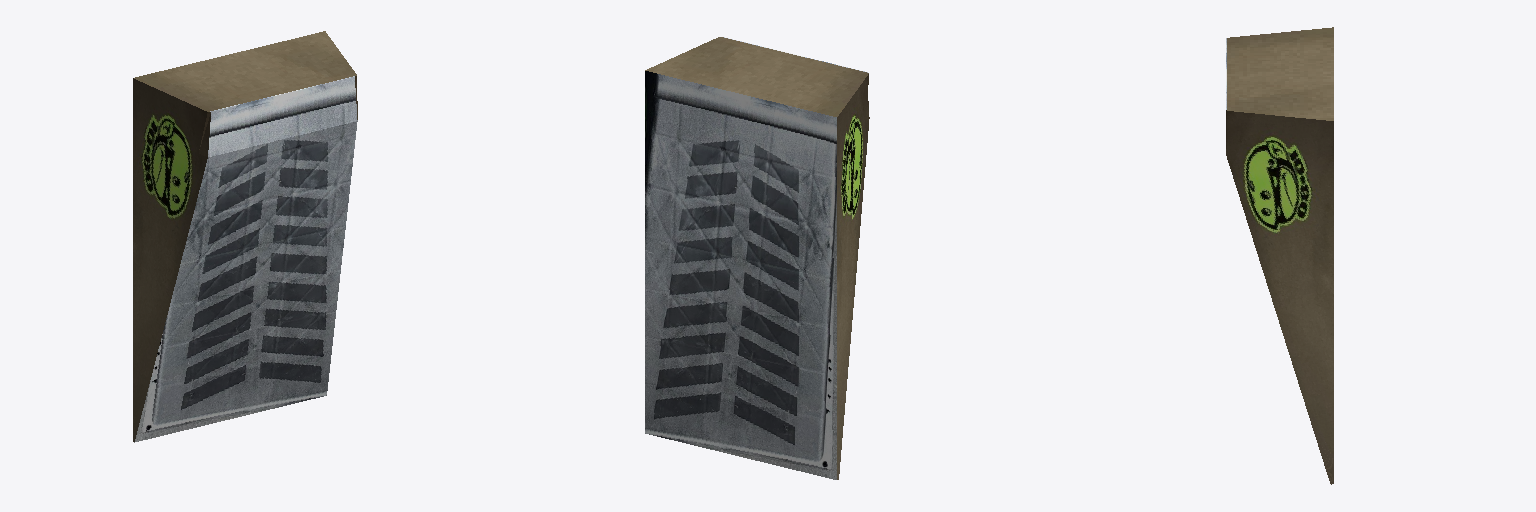
The picture shows the model from 3 angles: view 1: azimuth 30°, elevation 25°; view 2: azimuth 150°, elevation 25°; view 3: azimuth 270°, elevation 25°; orthographic projection.
Parts seen in each view (by area): view 1: Cube_Cube.003; view 2: Cube_Cube.003; view 3: Cube_Cube.003.
Part boxes in pixels (x1,y1,x2,y2): Cube_Cube.003: (133,31,357,442); Cube_Cube.003: (645,37,869,479); Cube_Cube.003: (1226,27,1333,484).
Size of the model in its own units: 0.3997 by 0.721 by 0.1941.
Materials: 1 (1 with a texture image).